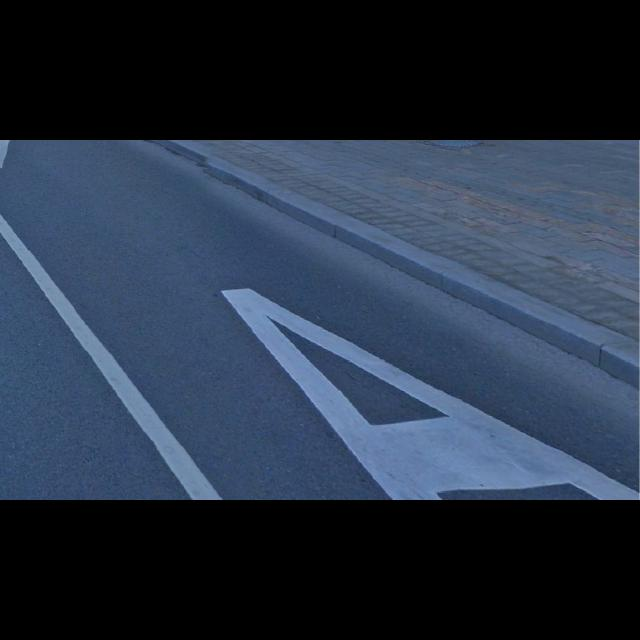road: (0, 140, 640, 500)
